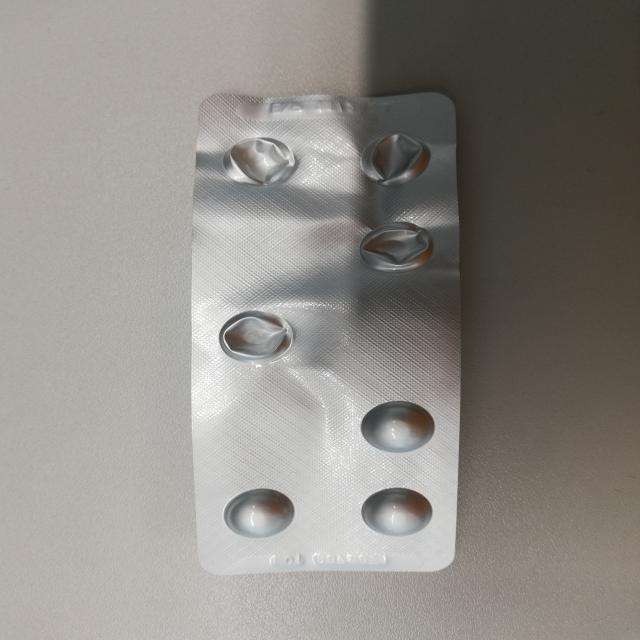Empty: (348, 217, 441, 277), (348, 128, 433, 192), (211, 307, 300, 367), (215, 132, 302, 188)
Pill: (357, 398, 441, 457), (357, 482, 437, 542), (218, 487, 300, 542)
